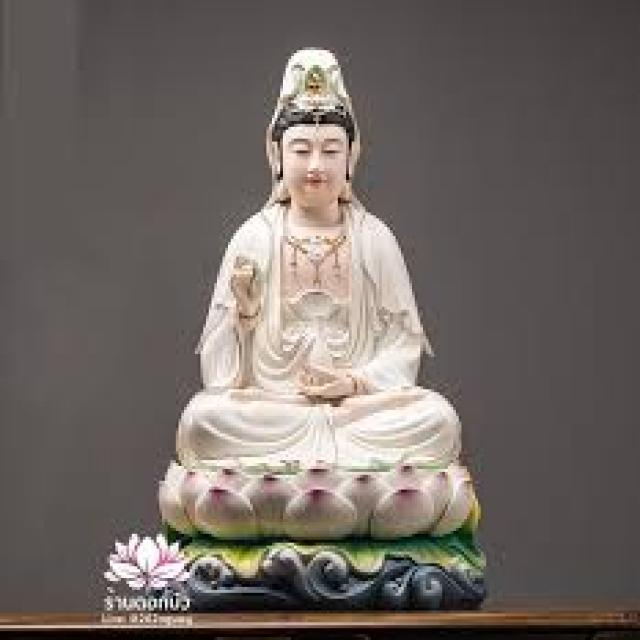Guan Yin: (173, 42, 461, 468)
